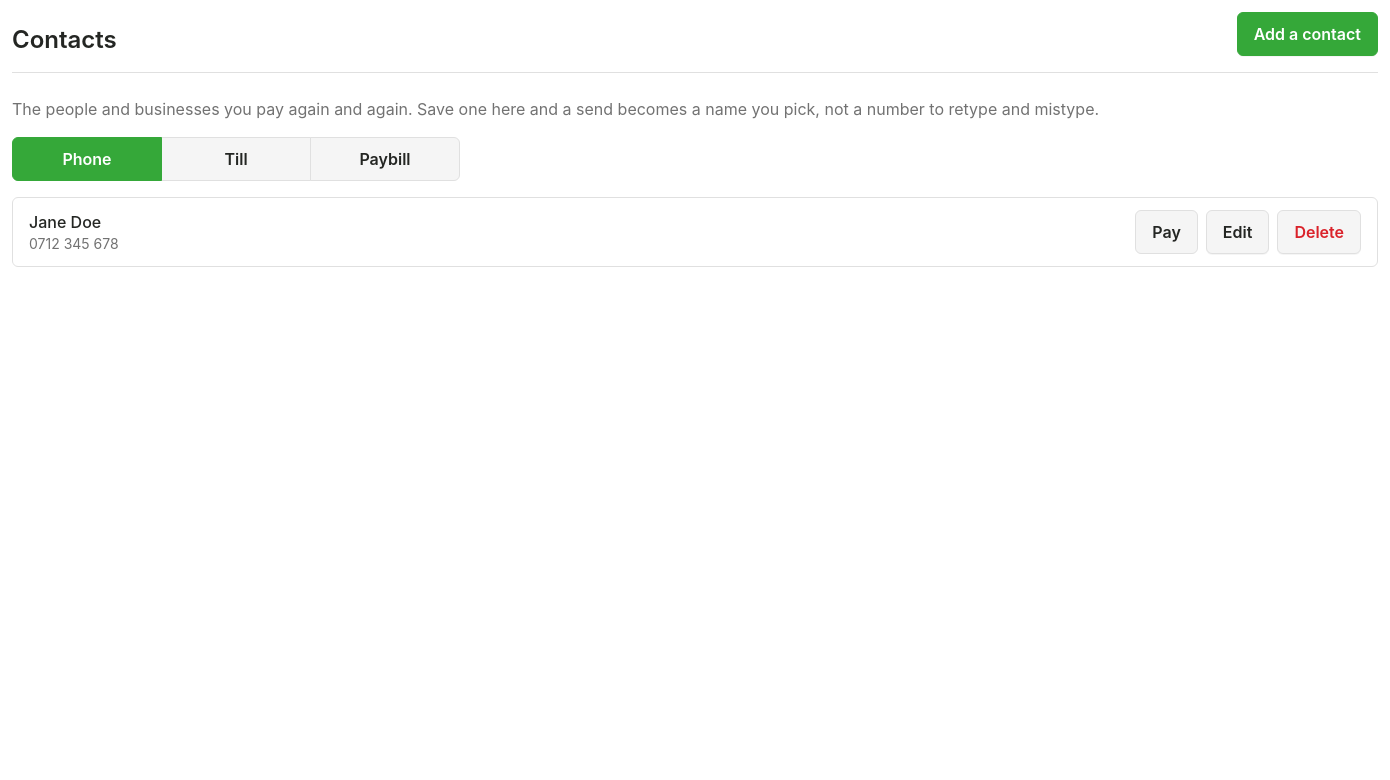
it: Contacts › adds a phone contact, sending the number as typed and a field only for its own kind
expect the text "Jane Doe" is shown: met, box [29,212,101,232]
Click the button "Add a contact" at (1307, 34), box [1237,12,1378,56]
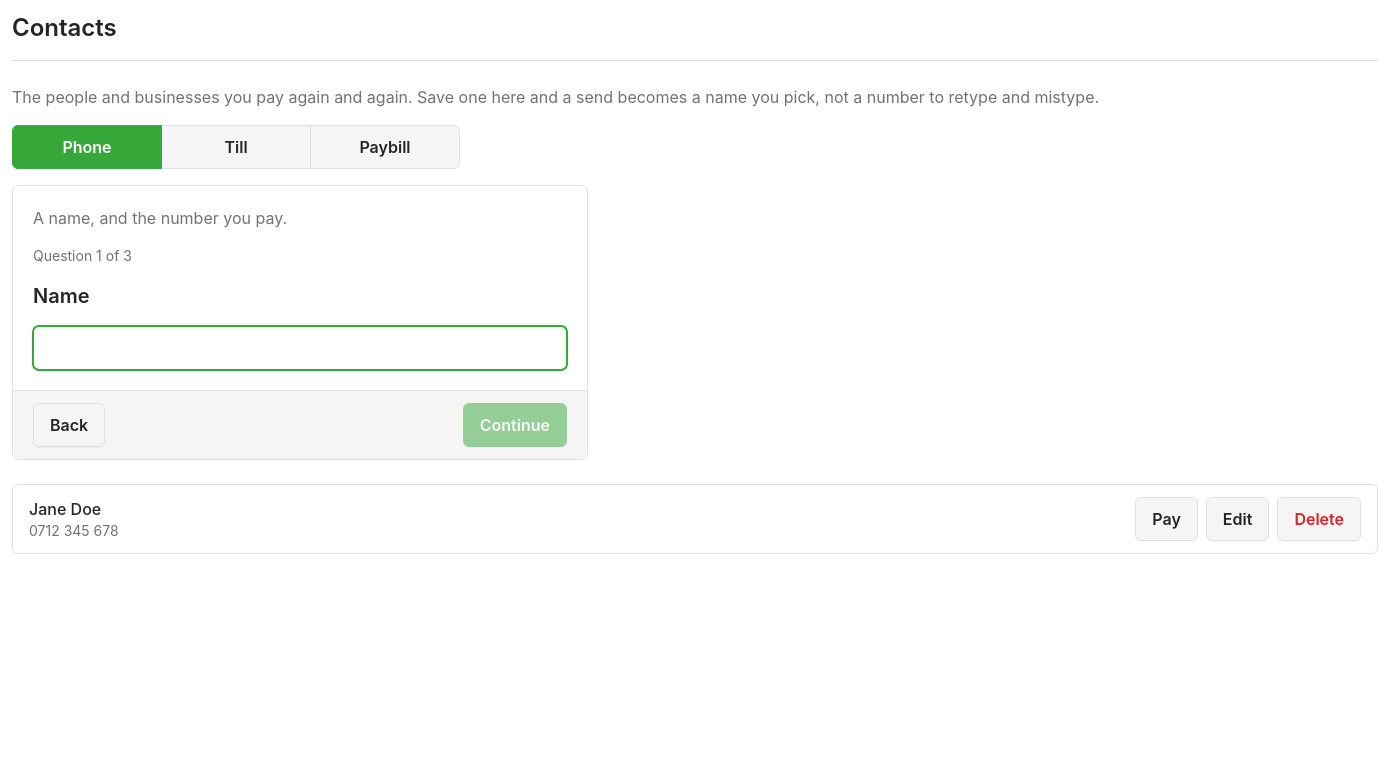
Type "Aisha" into the field named "Name" at (300, 348), box [33,326,567,370]
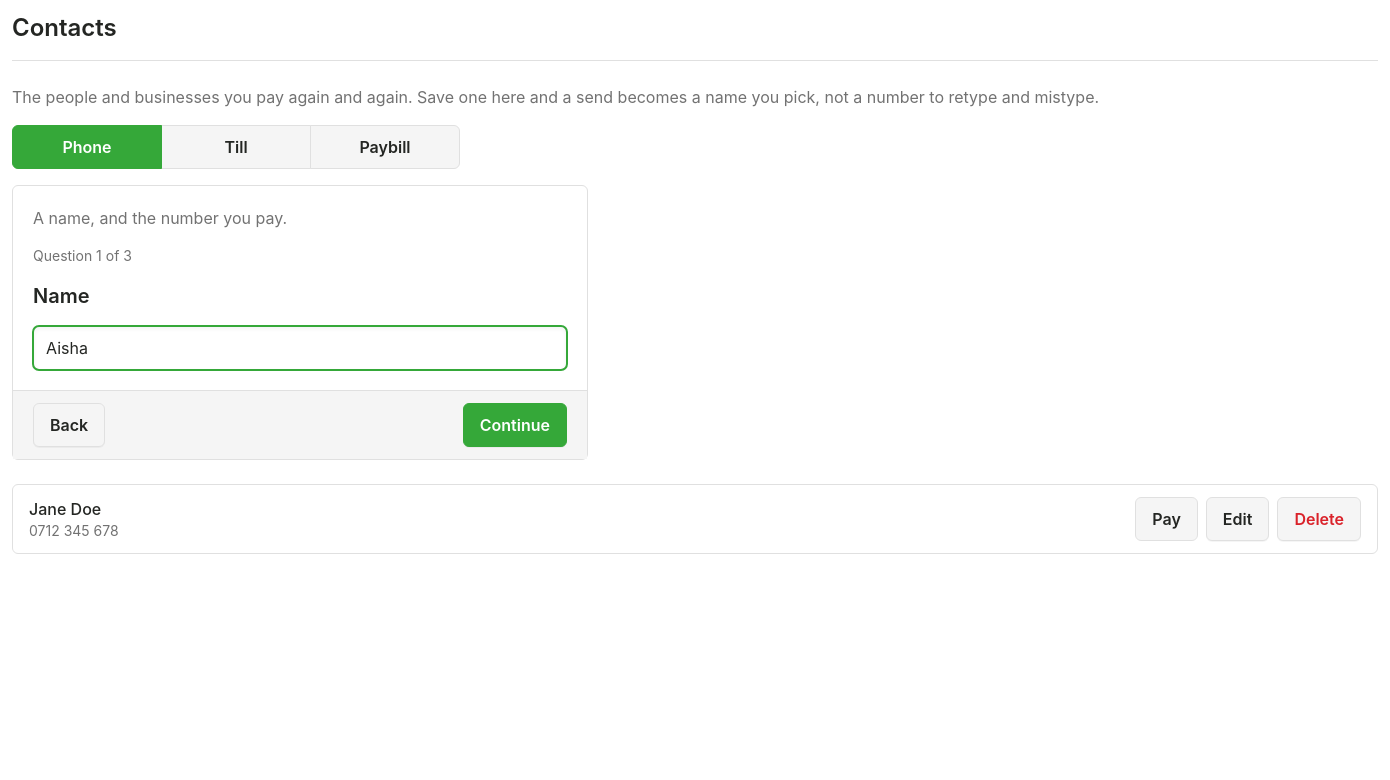
Click the button "Continue" at (515, 425), box [463,403,567,447]
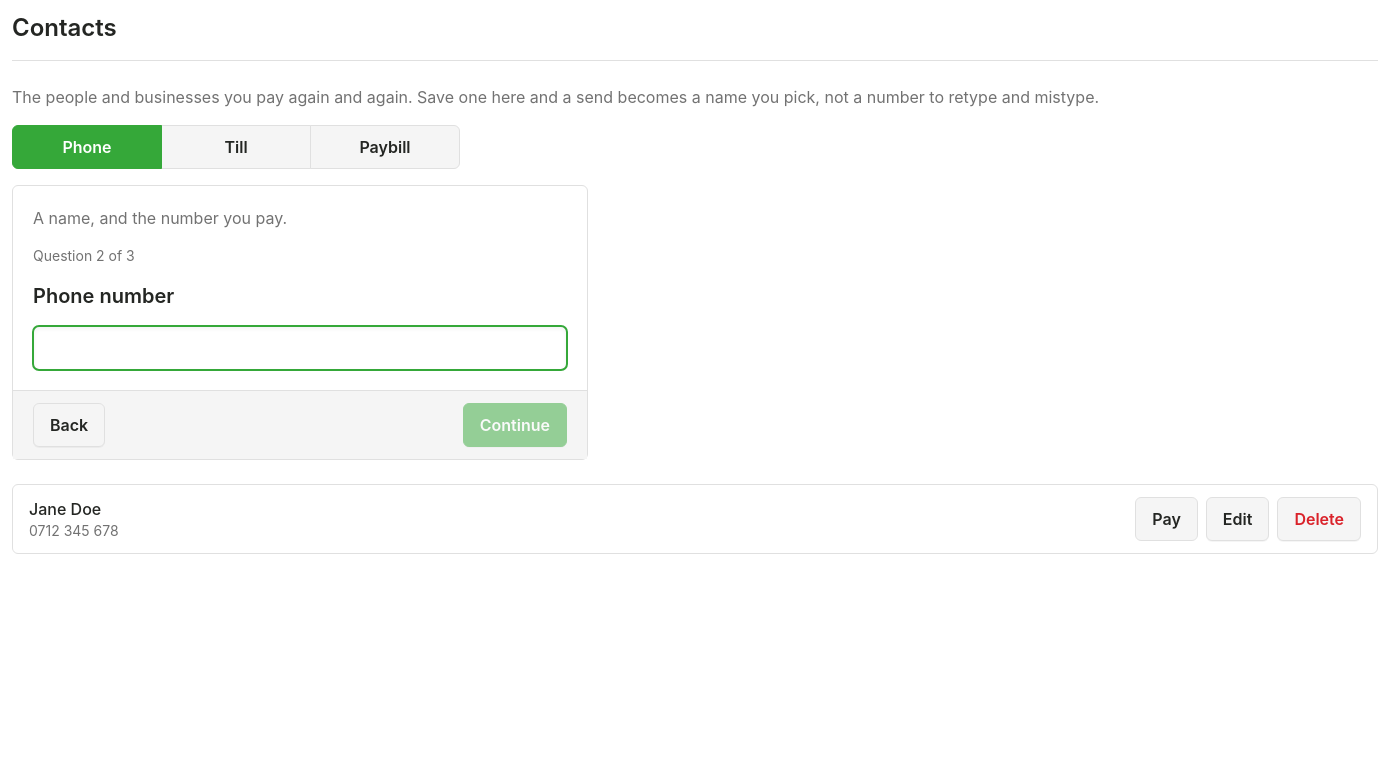
Type "0712 000 111" into the field named "Phone number" at (300, 348), box [33,326,567,370]
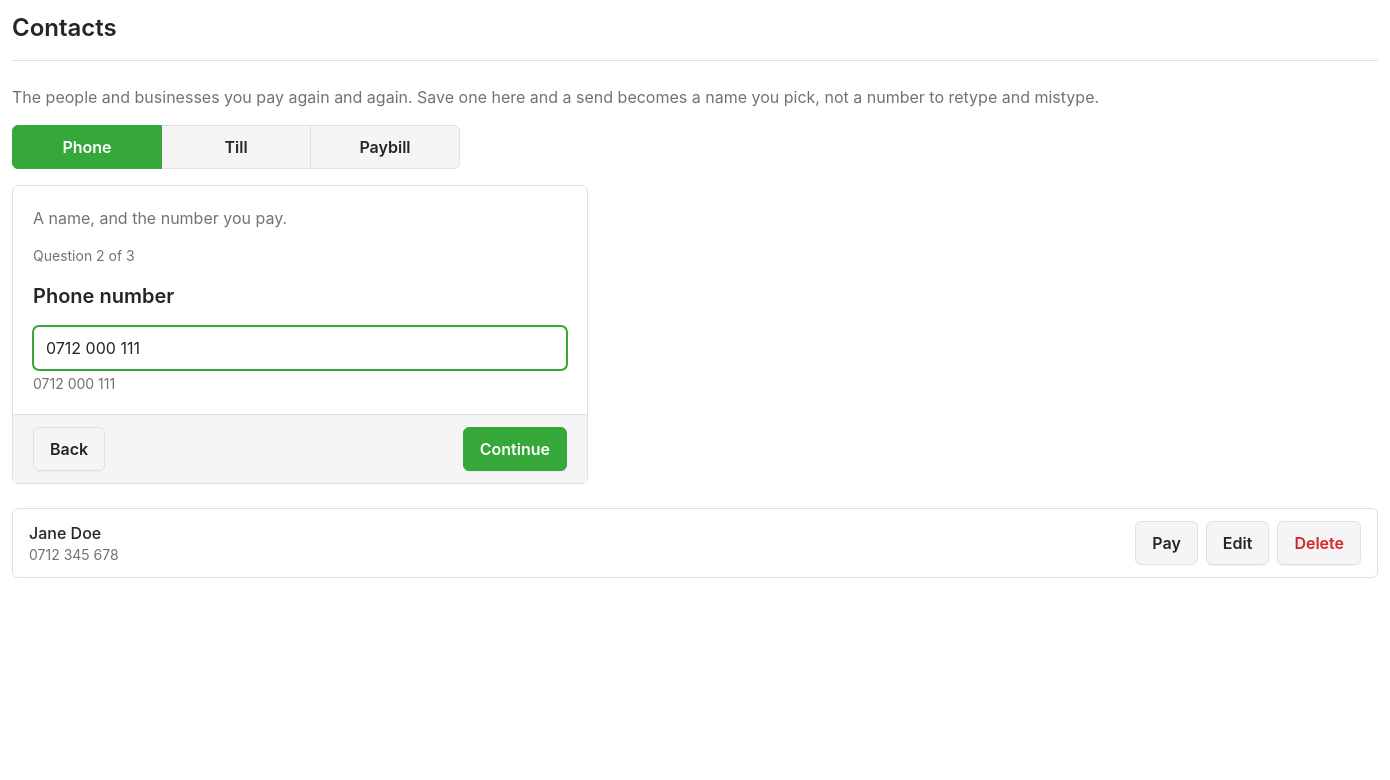
Click the button "Continue" at (515, 449), box [463,427,567,471]
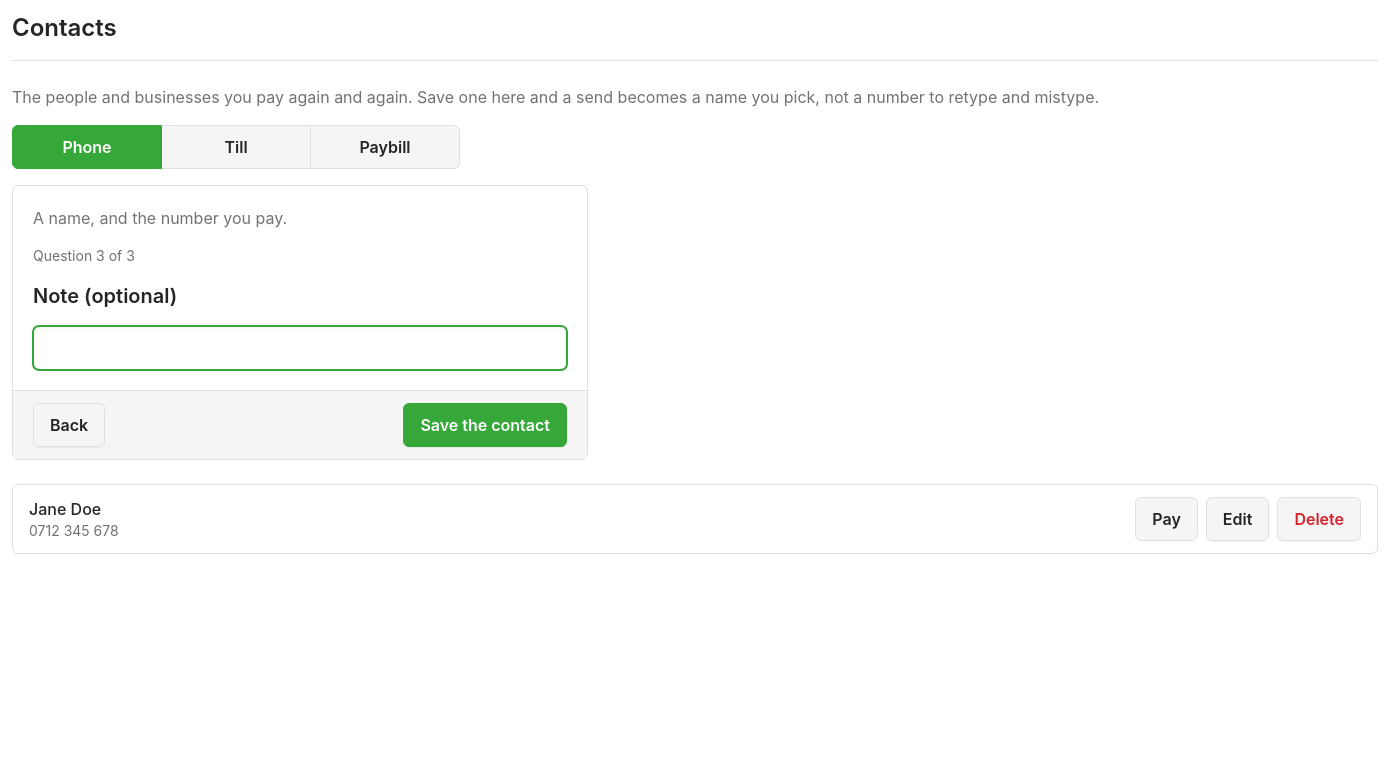
Click the button "Save the contact" at (485, 425), box [403,403,567,447]
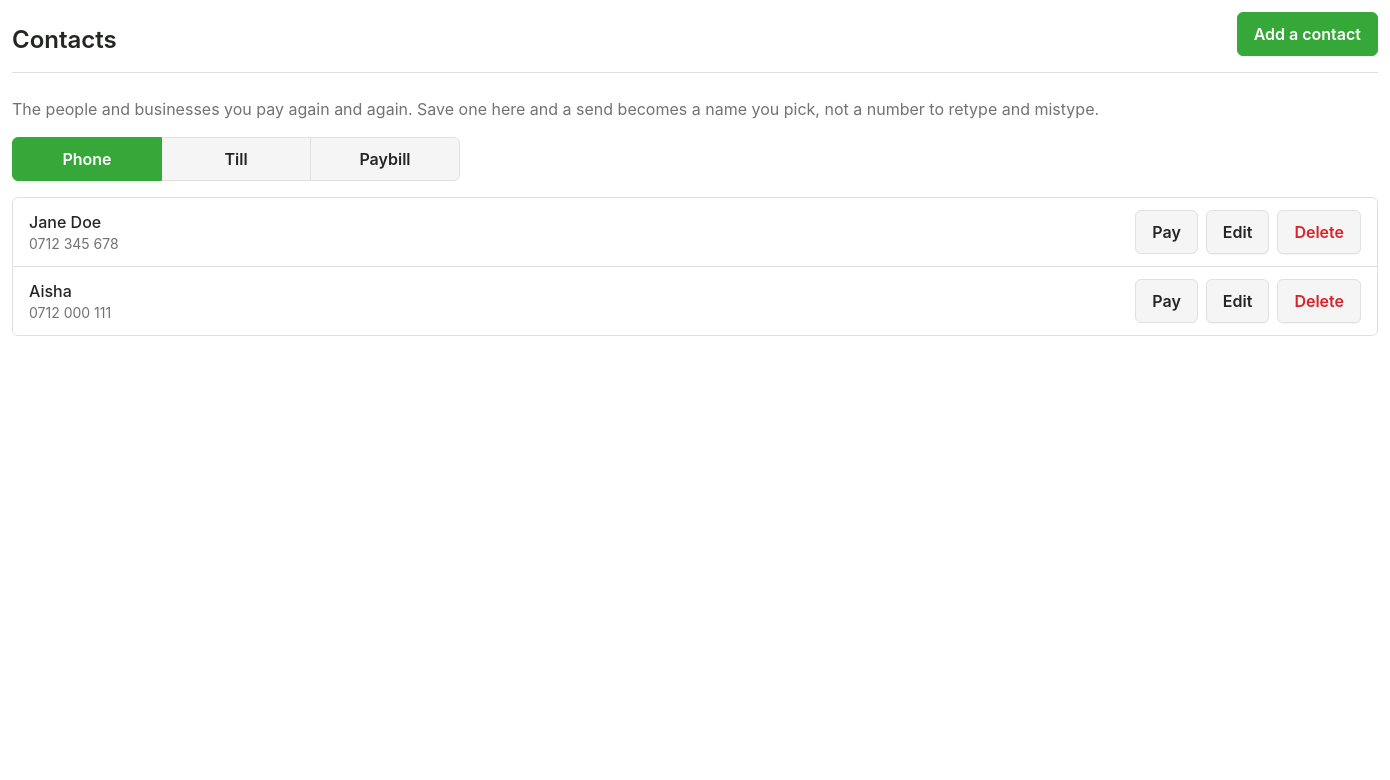
expect the text "Aisha" is shown: met, box [29,281,72,301]
